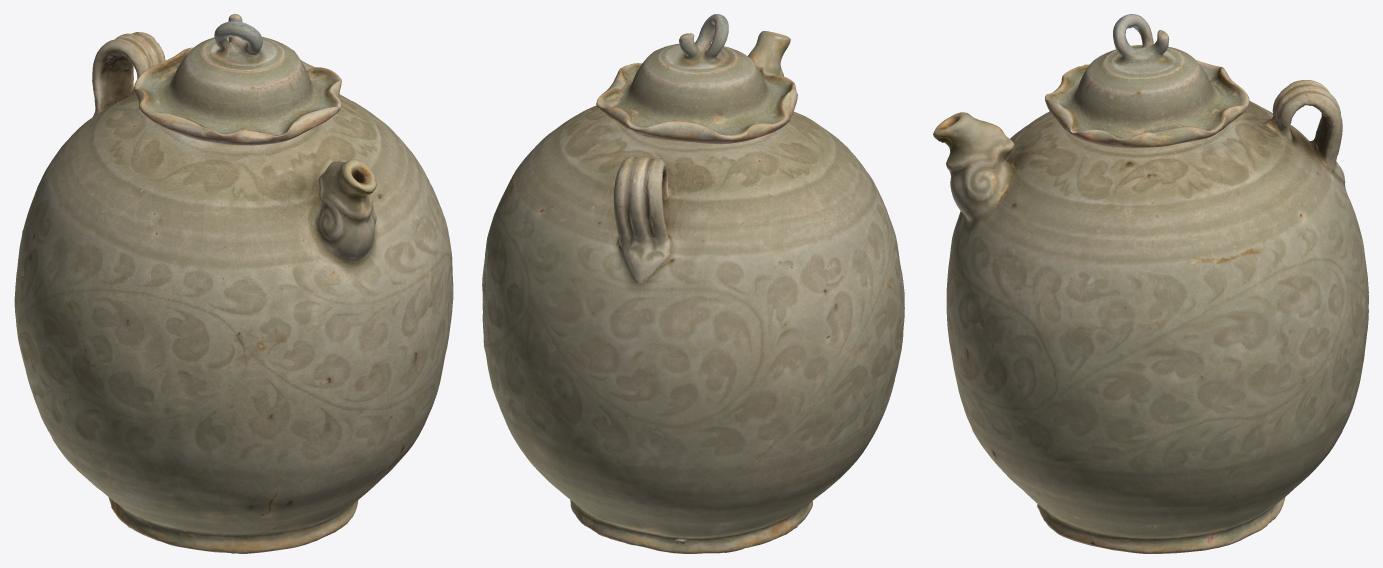
The model's file is CeladonEwer.fbx.
3 views of the same model, side by side, from view 1: azimuth 30°, elevation 25°; view 2: azimuth 150°, elevation 25°; view 3: azimuth 270°, elevation 25° (orthographic). The views are drawn at different scales.
Parts seen in each view (by area): view 1: CeladonEwer; view 2: CeladonEwer; view 3: CeladonEwer.
Boxes of the visible parts, x1=… form: CeladonEwer: x1=14, y1=14, x2=453, y2=553; CeladonEwer: x1=482, y1=14, x2=904, y2=553; CeladonEwer: x1=933, y1=14, x2=1368, y2=553.
Size of the model in its own units: 0.1667 by 0.21 by 0.1705.
2 materials, 2 textured.
